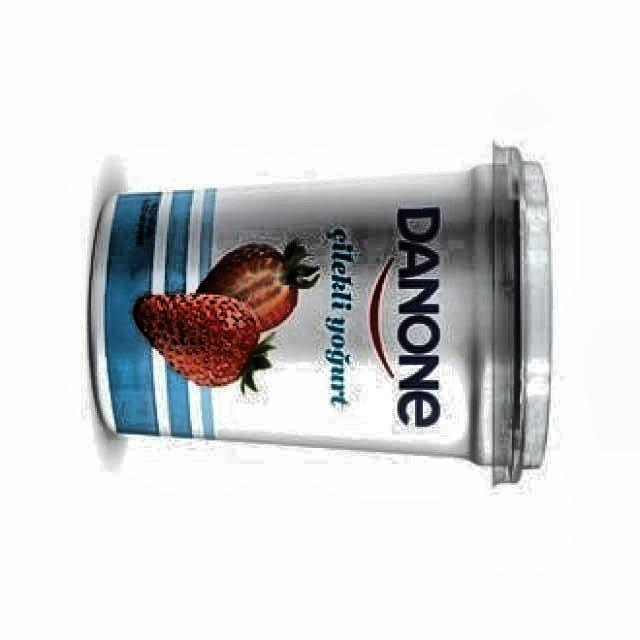plastic: (87, 145, 551, 484)
